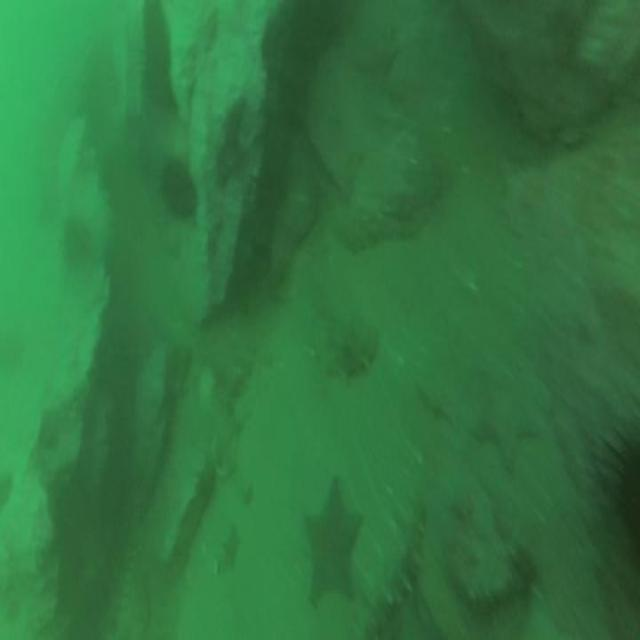echinus: (299, 474, 367, 612), (156, 153, 198, 224)
holothurian: (363, 487, 432, 632), (304, 280, 380, 378)
starfish: (587, 377, 640, 578)
